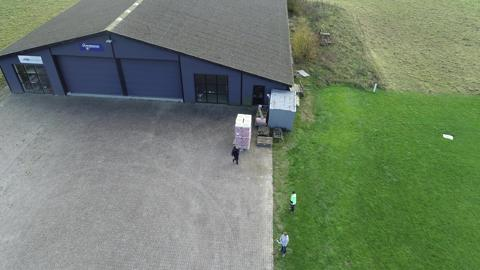RockwoolPallet: (234, 112, 251, 149)
